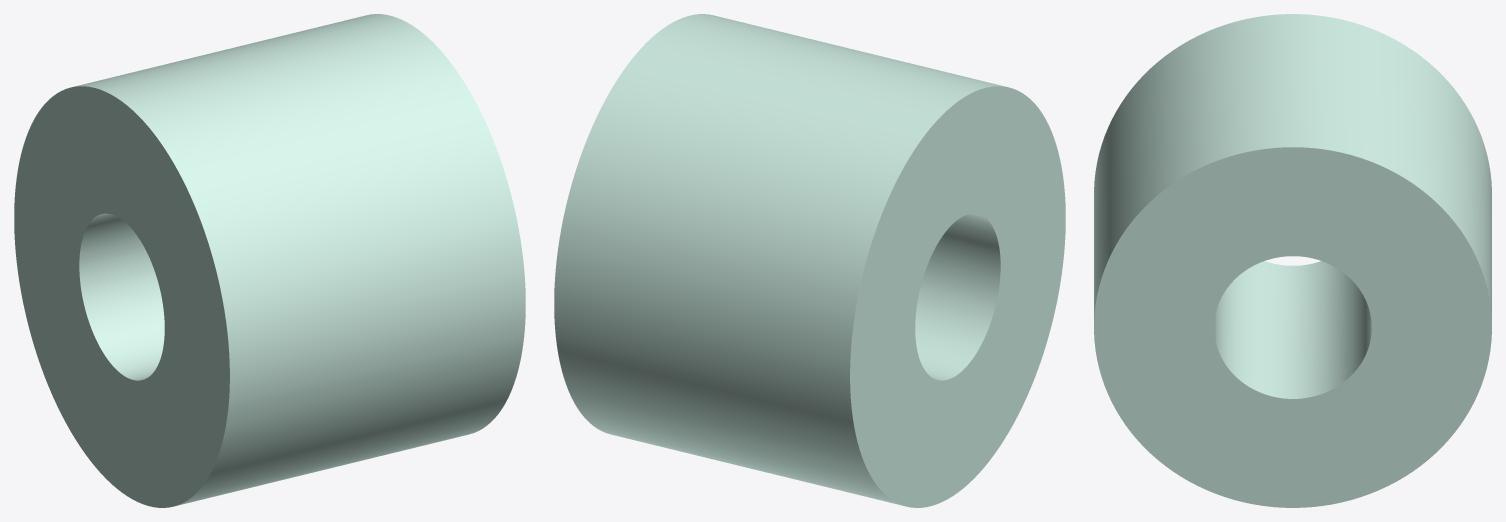
3 renders of one model, left to right at view 1: azimuth 30°, elevation 25°; view 2: azimuth 150°, elevation 25°; view 3: azimuth 270°, elevation 25°, orthographic. The views are drawn at different scales.
Visible parts, largest first — view 1: Renderer Node; view 2: Renderer Node; view 3: Renderer Node.
Boxes of the visible parts, x1=… form: Renderer Node: x1=14, y1=14, x2=525, y2=507; Renderer Node: x1=554, y1=14, x2=1065, y2=507; Renderer Node: x1=1094, y1=14, x2=1491, y2=507.
Size of the model in its own units: 0.75 by 0.9474 by 0.9471.
